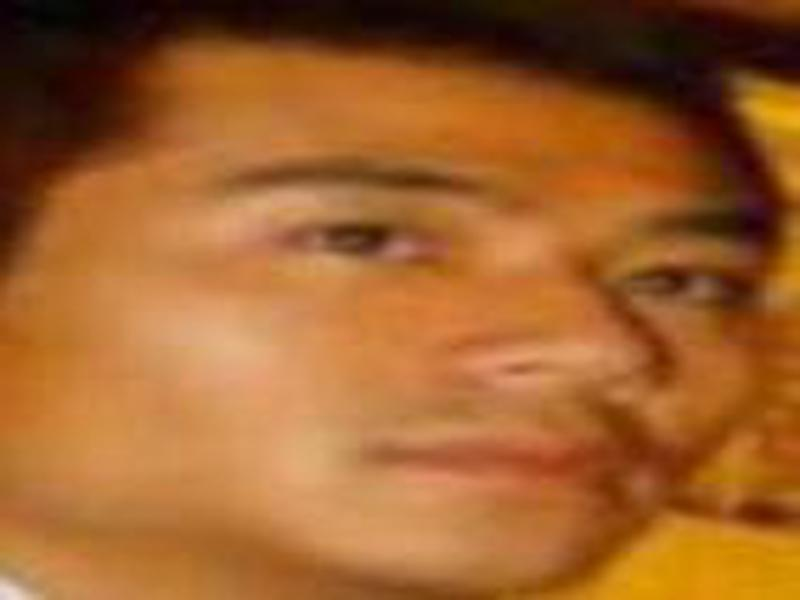without_mask: (29, 46, 780, 597)
